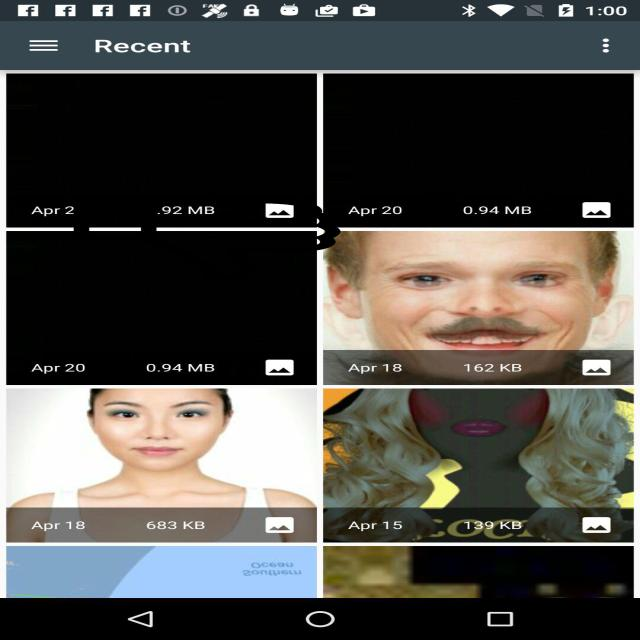obstruction: (70, 199, 344, 281)
